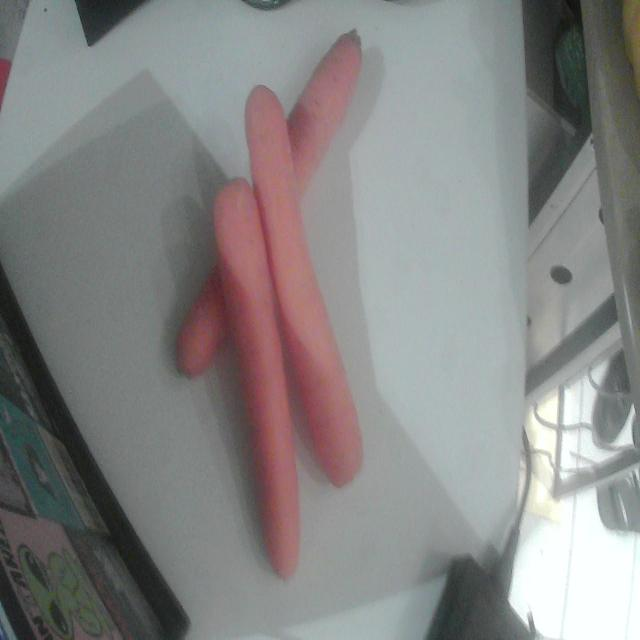Carrot: (245, 87, 362, 487), (214, 179, 299, 579), (287, 30, 362, 195)
